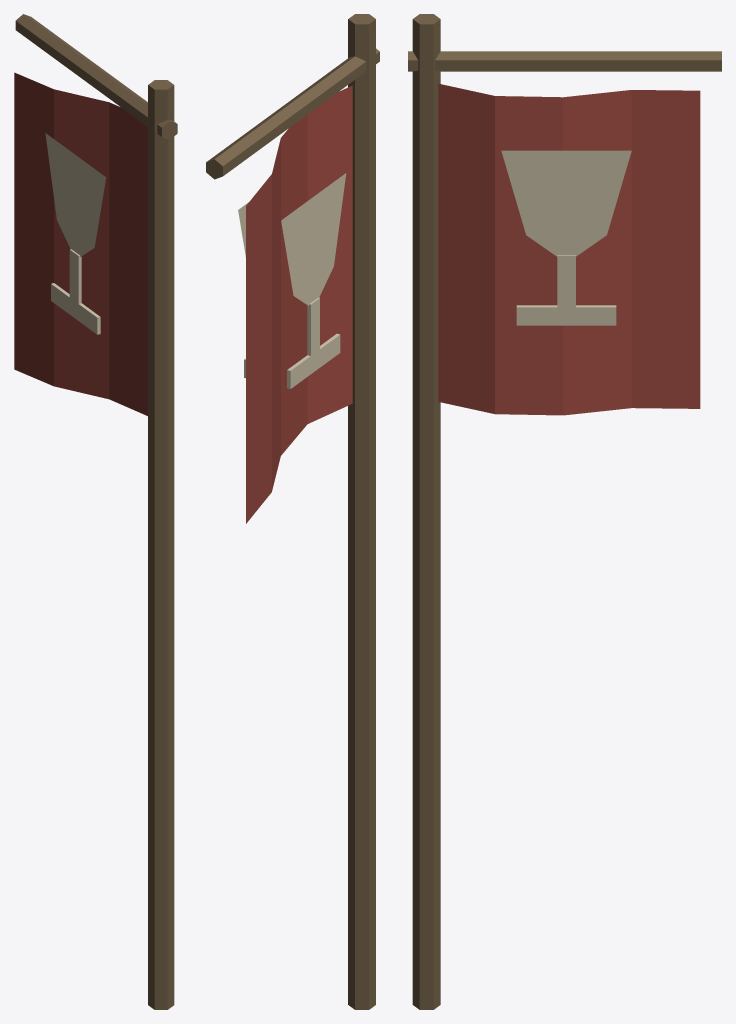
File: banner.glb
3 views of the same model, side by side, from view 1: azimuth 30°, elevation 25°; view 2: azimuth 150°, elevation 25°; view 3: azimuth 270°, elevation 25° (orthographic). The views are drawn at different scales.
Visible parts, largest first — view 1: banner_red, banner_oak_dark, banner_linen; view 2: banner_oak_dark, banner_red, banner_linen; view 3: banner_red, banner_oak_dark, banner_linen.
Boxes of the visible parts, bbox=[...] form: banner_red: bbox=[14, 72, 147, 415]; banner_oak_dark: bbox=[15, 14, 177, 1009]; banner_linen: bbox=[45, 133, 106, 334]; banner_oak_dark: bbox=[206, 14, 379, 1009]; banner_red: bbox=[246, 85, 352, 523]; banner_linen: bbox=[238, 173, 346, 388]; banner_red: bbox=[438, 83, 700, 415]; banner_oak_dark: bbox=[408, 14, 721, 1009]; banner_linen: bbox=[501, 150, 631, 325].
Bounding box in the file's own units: 0.173 × 3.5 × 1.01.
